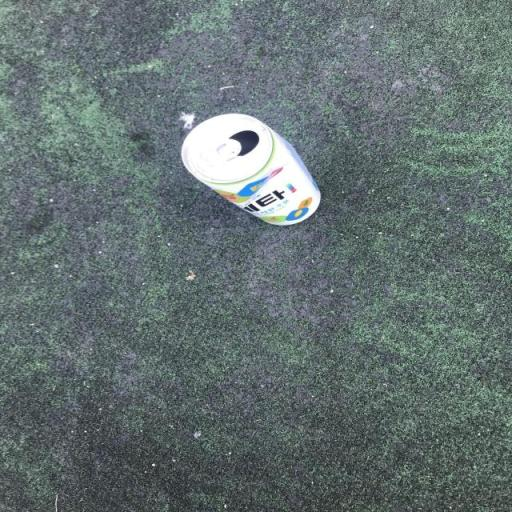metal: (124, 76, 318, 249)
